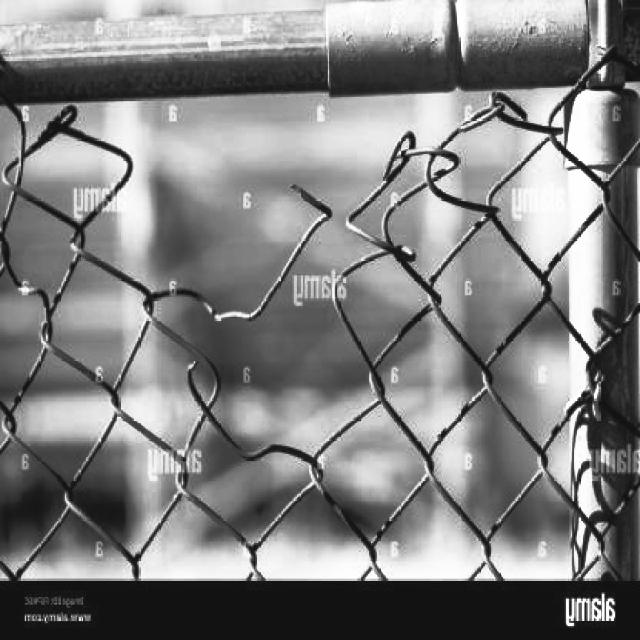anomaly-fence: (0, 19, 640, 461)
